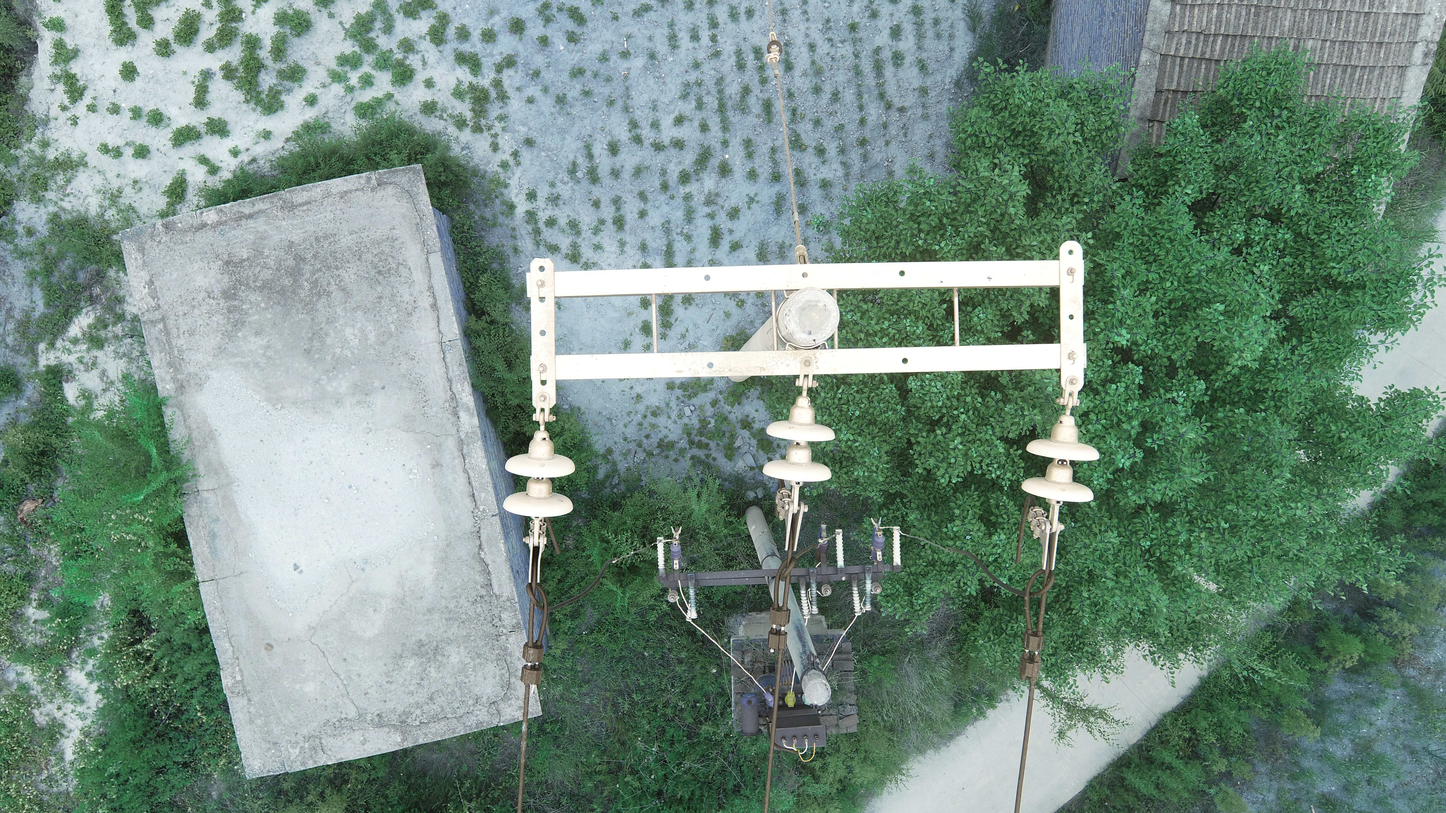severe_soiling_no_discharge_whole: (808, 571, 820, 614), (686, 576, 698, 619), (863, 565, 873, 610)
